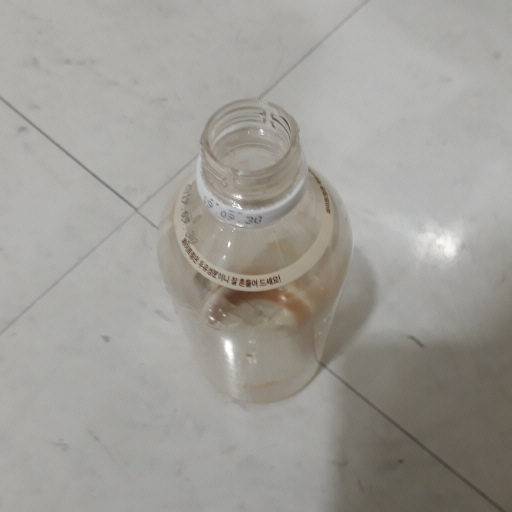Plastic_0: (155, 98, 353, 409)
